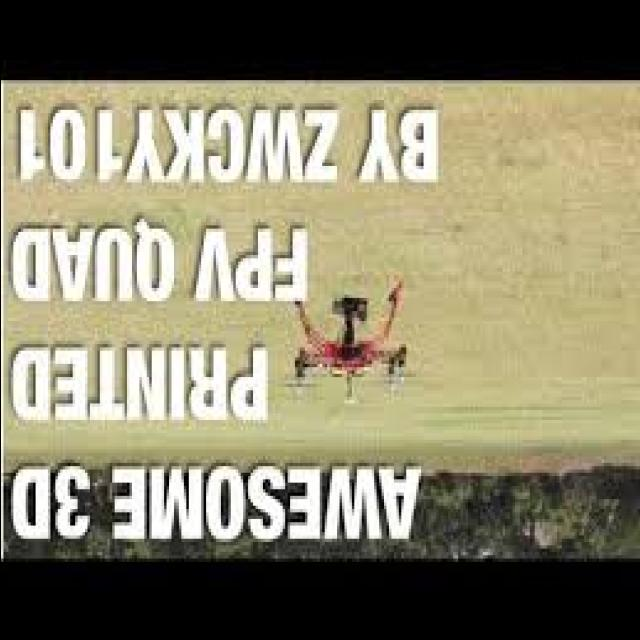drone: (274, 258, 428, 403)
